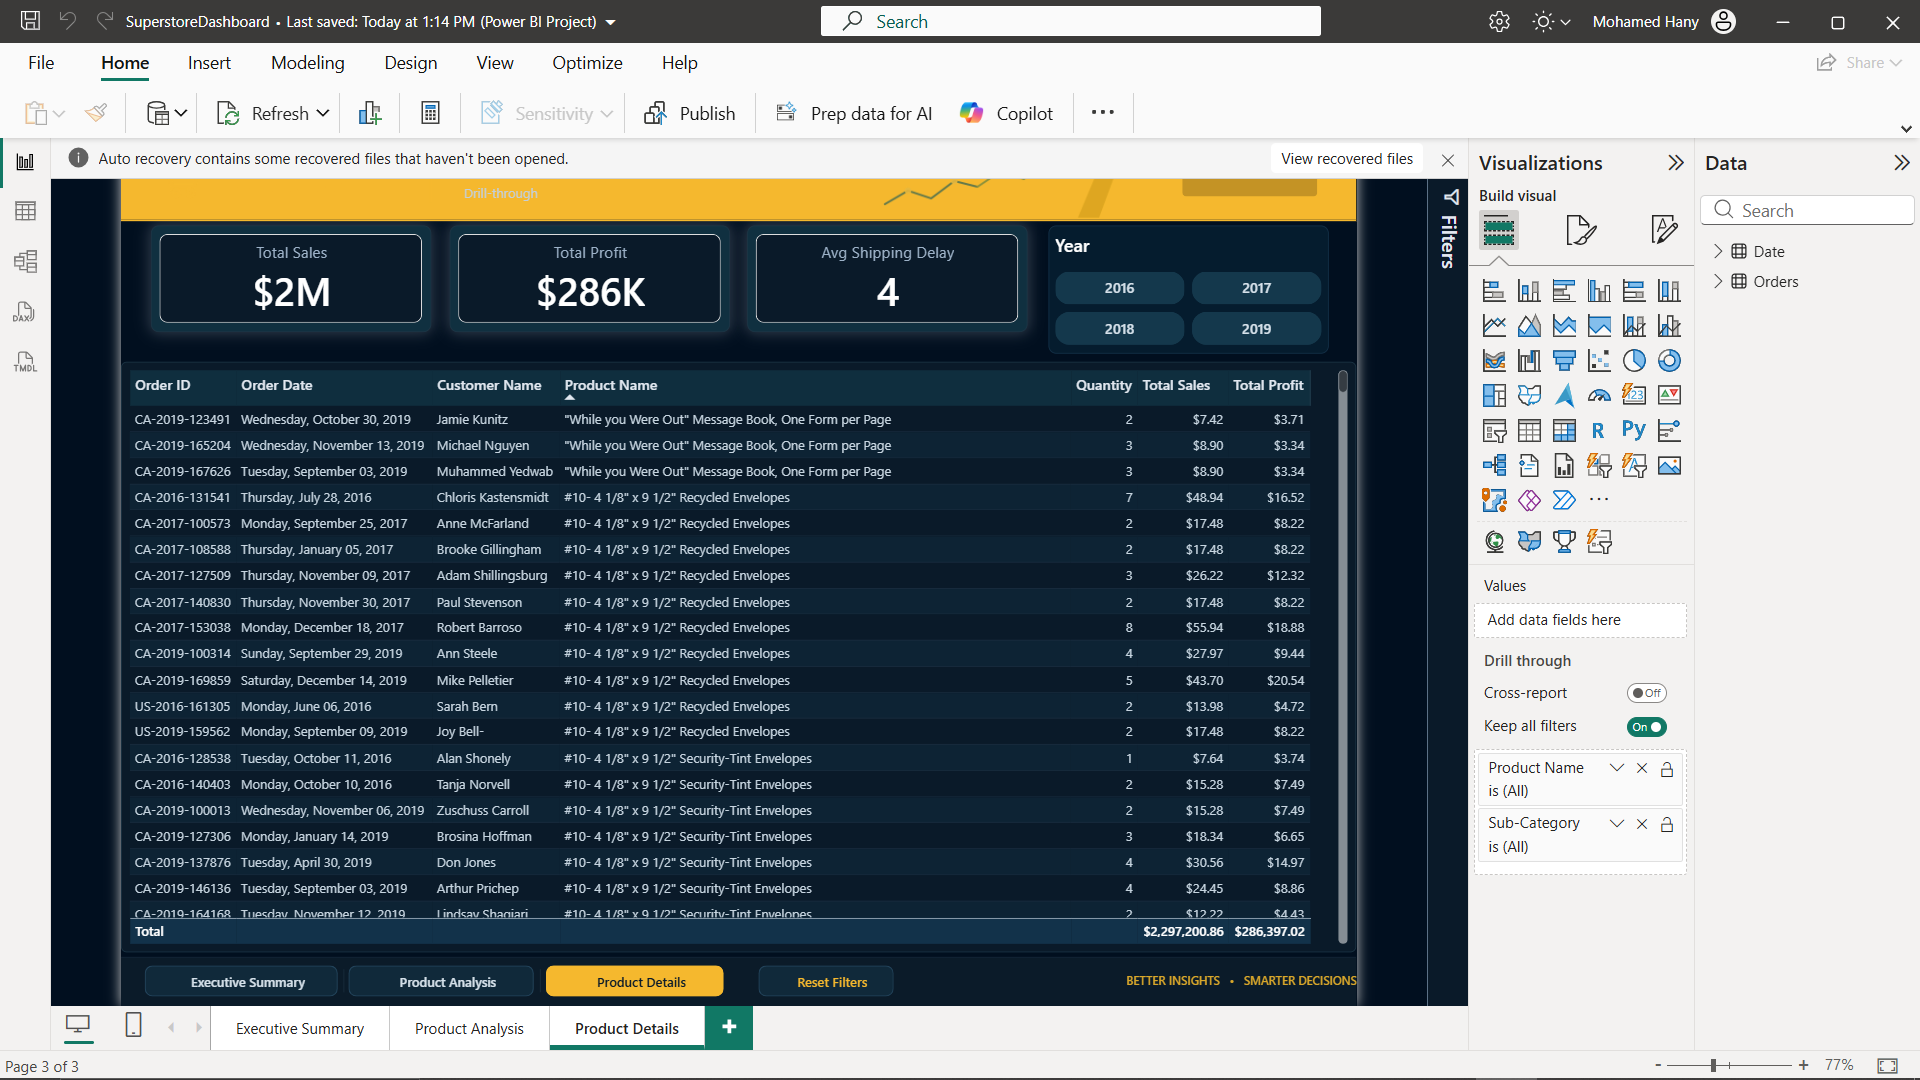

The dashboard page shown, as its layout file describes it:
{"tool":"powerbi","page":{"name":"Product Details","canvas":[1280,900],"ordinal":2},"visuals":[{"type":"cardVisual","fields":{"Data":["Orders.Total Sales"]},"box":[13.8,97.5,290,110],"z":0},{"type":"cardVisual","fields":{"Data":["Orders.Total Profit"]},"box":[322.5,97.5,290,110],"z":1000},{"type":"cardVisual","fields":{"Data":["Orders.Avg Shipping Delay"]},"box":[640,97.5,290,110],"z":2000},{"type":"advancedSlicerVisual","title":"Year","fields":{"Values":["Date.Year"]},"box":[951.2,97.5,311.2,110],"z":3000},{"type":"tableEx","fields":{"Values":["Orders.Order ID","Orders.Order Date","Orders.Customer Name","Orders.Product Name","Orders.Quantity","Orders.Total Sales","Orders.Total Profit"]},"box":[11.7,222.8,1256.5,611.4],"z":4000},{"type":"shape","box":[0,0,1280,84],"z":5000},{"type":"image","box":[788,2,284,80],"z":6000},{"type":"shape","box":[0,84,1280,2],"z":7000},{"type":"shape","box":[320,17,2,50],"z":8000},{"type":"image","box":[36,21,46,42],"z":9000},{"type":"actionButton","box":[1100,24,140,36],"z":10000},{"type":"textbox","box":[340,2,420,64],"z":11000},{"type":"textbox","box":[103,10,210,60],"z":12000},{"type":"shape","box":[0,850,1280,50],"z":13000},{"type":"shape","box":[0,849,1280,1],"z":14000},{"type":"actionButton","box":[24,858,200,32],"z":15000},{"type":"actionButton","box":[236,858,192,32],"z":16000},{"type":"actionButton","box":[440,858,184,32],"z":17000},{"type":"actionButton","box":[660,858,140,32],"z":18000},{"type":"textbox","box":[997.3,861.3,242.7,28],"z":19000},{"type":"shape","box":[230,862,1,24],"z":20000},{"type":"shape","box":[434,862,1,24],"z":21000},{"type":"image","box":[0,0,1279.8,82.9],"z":22000},{"type":"image","box":[0,0,1279.8,82.9],"z":23000}]}

Visuals, with their boxes on the page's 1280x900 design canvas (x1, y1, x2, y2). These are canvas units, not pixel positions in the 1920x1080 screenshot, which may show the page scaled, cropped or inside an application window:
cardVisual - Orders.Total Sales: [14,98,304,208]
cardVisual - Orders.Total Profit: [322,98,612,208]
cardVisual - Orders.Avg Shipping Delay: [640,98,930,208]
"Year" advancedSlicerVisual: [951,98,1262,208]
tableEx - Orders.Order ID x Orders.Order Date: [12,223,1268,834]
shape: [0,0,1280,84]
image: [788,2,1072,82]
shape: [0,84,1280,86]
shape: [320,17,322,67]
image: [36,21,82,63]
actionButton: [1100,24,1240,60]
textbox: [340,2,760,66]
textbox: [103,10,313,70]
shape: [0,850,1280,900]
shape: [0,849,1280,850]
actionButton: [24,858,224,890]
actionButton: [236,858,428,890]
actionButton: [440,858,624,890]
actionButton: [660,858,800,890]
textbox: [997,861,1240,889]
shape: [230,862,231,886]
shape: [434,862,435,886]
image: [0,0,1280,83]
image: [0,0,1280,83]
